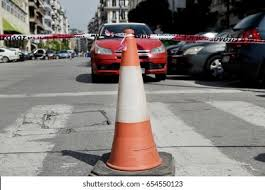car: (91, 22, 168, 79), (170, 29, 231, 80), (223, 12, 265, 80), (1, 48, 21, 62)
cone: (112, 28, 160, 169)
